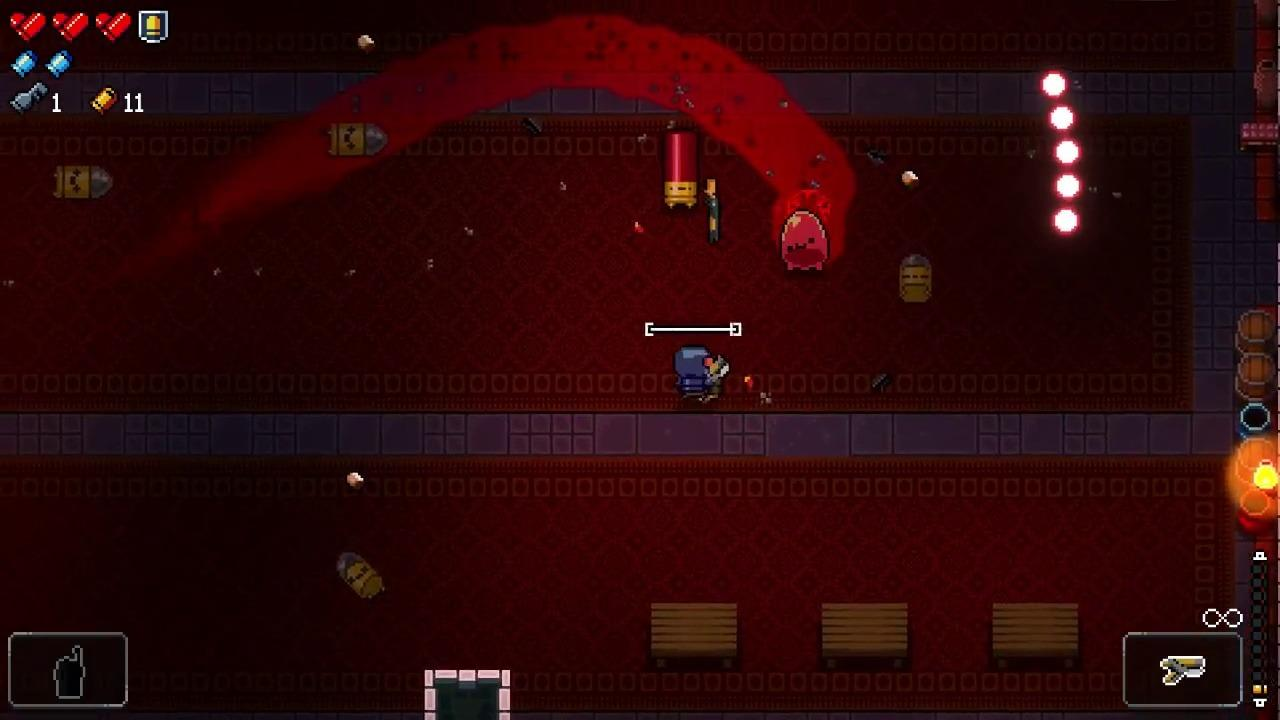blobulon_l: (779, 209, 831, 272)
bullet: (1055, 173, 1084, 202), (1053, 140, 1083, 167), (1048, 106, 1076, 134), (1054, 207, 1080, 237), (1043, 71, 1067, 100)
dead_bullet_kin: (337, 547, 385, 602), (325, 121, 385, 158), (53, 165, 115, 198), (902, 255, 931, 305)
player: (675, 346, 715, 401)
red_shotgun_kin: (664, 131, 697, 208)
table: (650, 604, 739, 667), (993, 603, 1079, 668), (823, 605, 907, 668)
